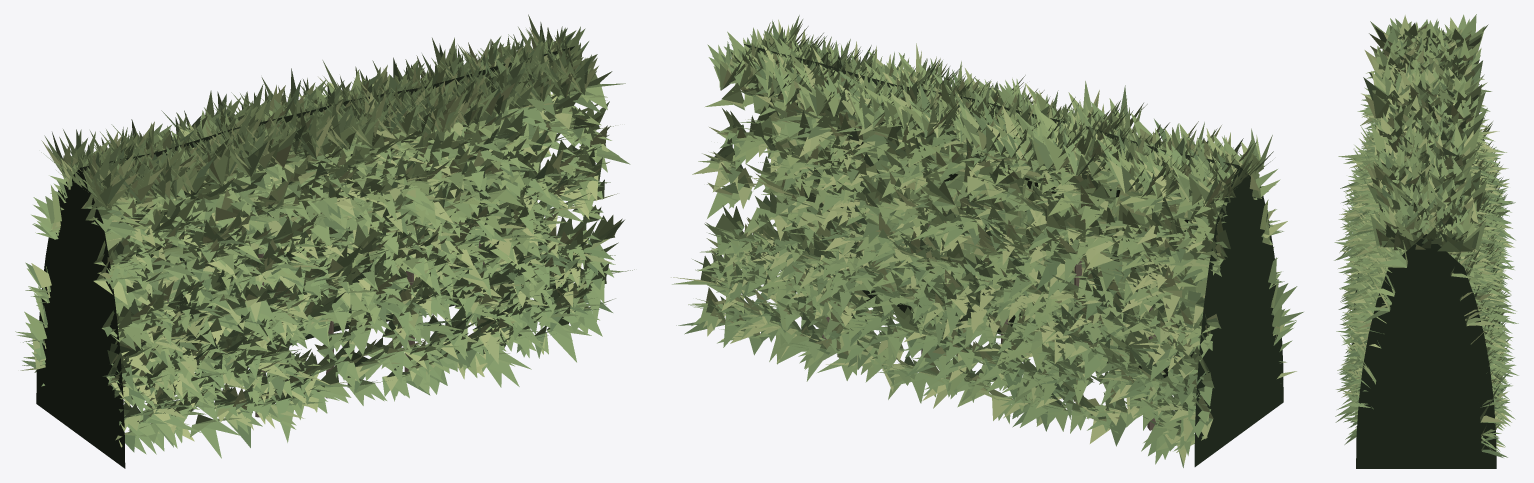
Rendered from hedge_a.glb.
3 views of the same model, side by side, from view 1: azimuth 30°, elevation 25°; view 2: azimuth 150°, elevation 25°; view 3: azimuth 270°, elevation 25° (orthographic). The views are drawn at different scales.
Parts seen in each view (by area): view 1: hedge_a; view 2: hedge_a; view 3: hedge_a.
Part boxes in pixels (x1,y1,x2,y2): hedge_a: (15,14,634,468); hedge_a: (671,15,1303,467); hedge_a: (1334,14,1518,468).
Bounding box in the file's own units: 2.65 × 1.41 × 0.9183.
